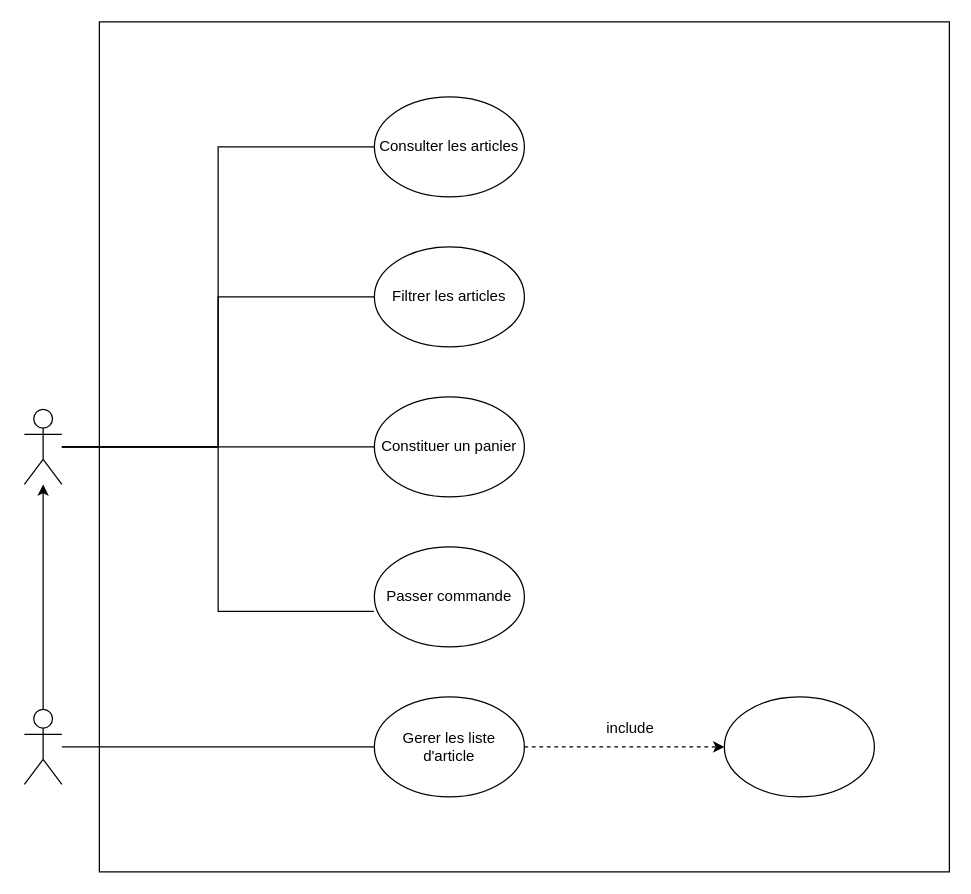
Some shapes in this 971 by 894 pixel diagram are drawn without their labels. Each missing label, with the centre of its shape:
"Admin" belongs at point 42,746.
"Invité" belongs at point 42,446.
"S'authentifier" belongs at point 798,746.
